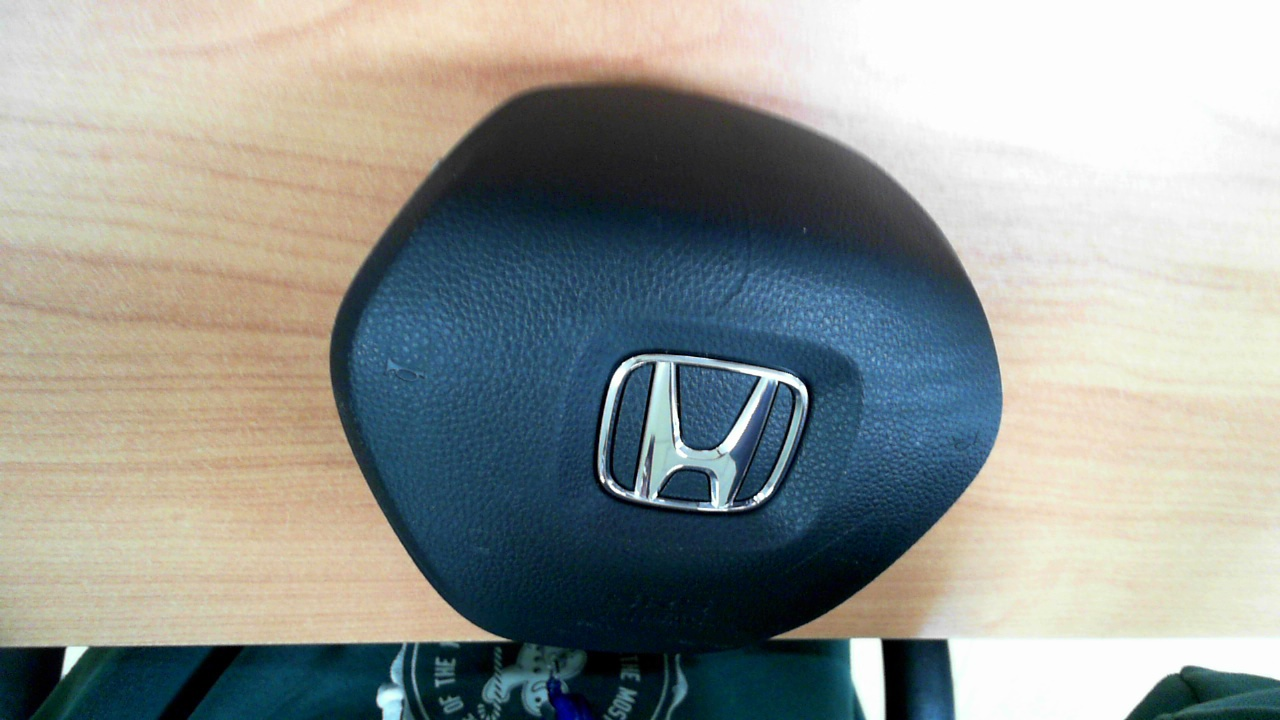Airbag: (326, 79, 1005, 656)
Honda: (597, 353, 809, 513)
